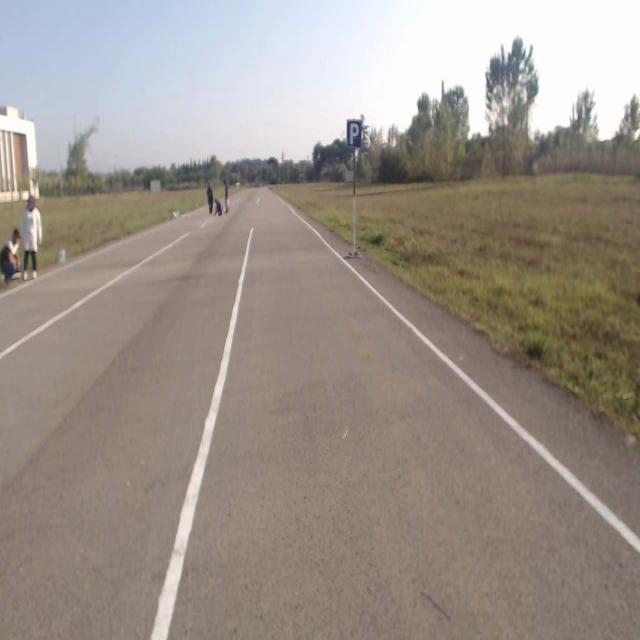park: (347, 120, 361, 148)
